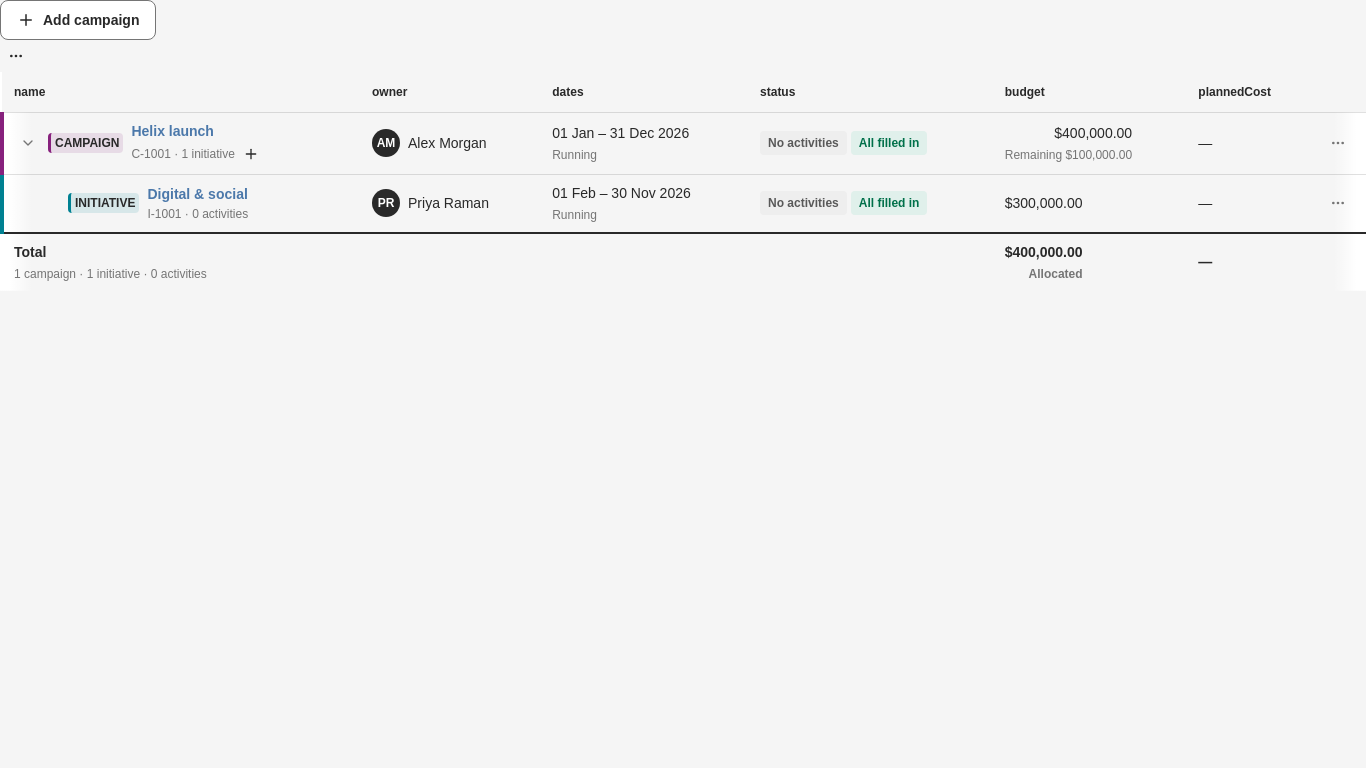
useCampaignTreeContent (feature 005) › shows a new campaign and the new totals right after it is created (FR-012)
Click the link "Add campaign" at (78, 20), box [0,0,156,40]
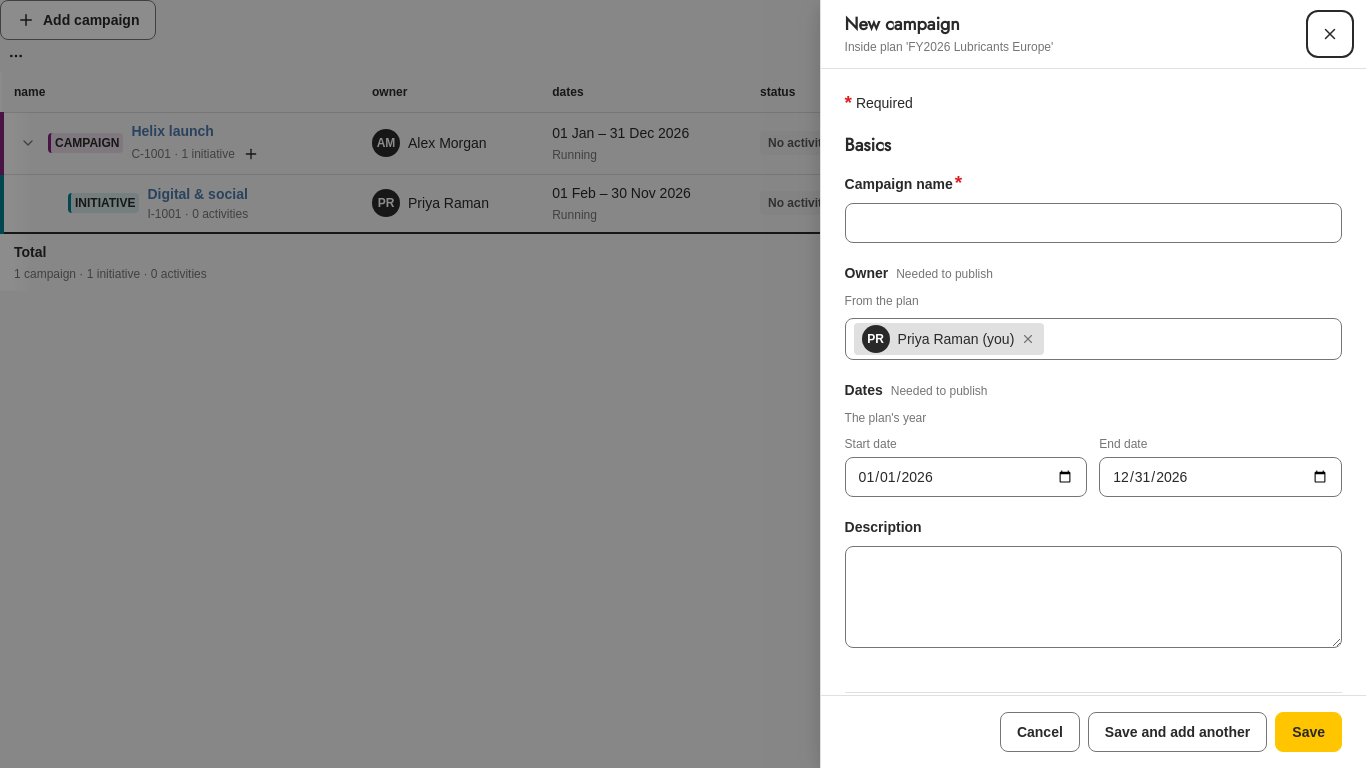
Type "Fleet growth" into the field labelled "Campaign name" at (1093, 223), box [845,203,1342,243]
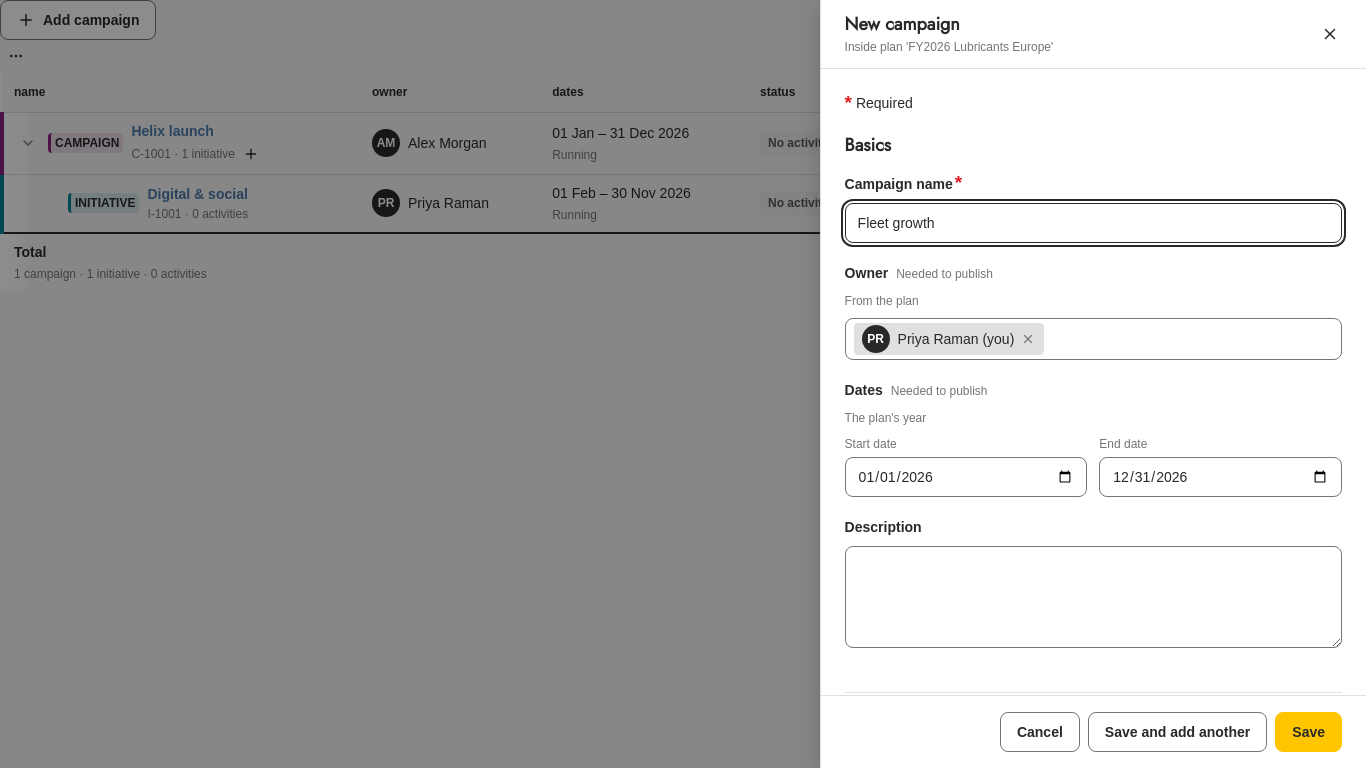
Click the button "Save" at (1309, 732), box [1275,712,1342,752]
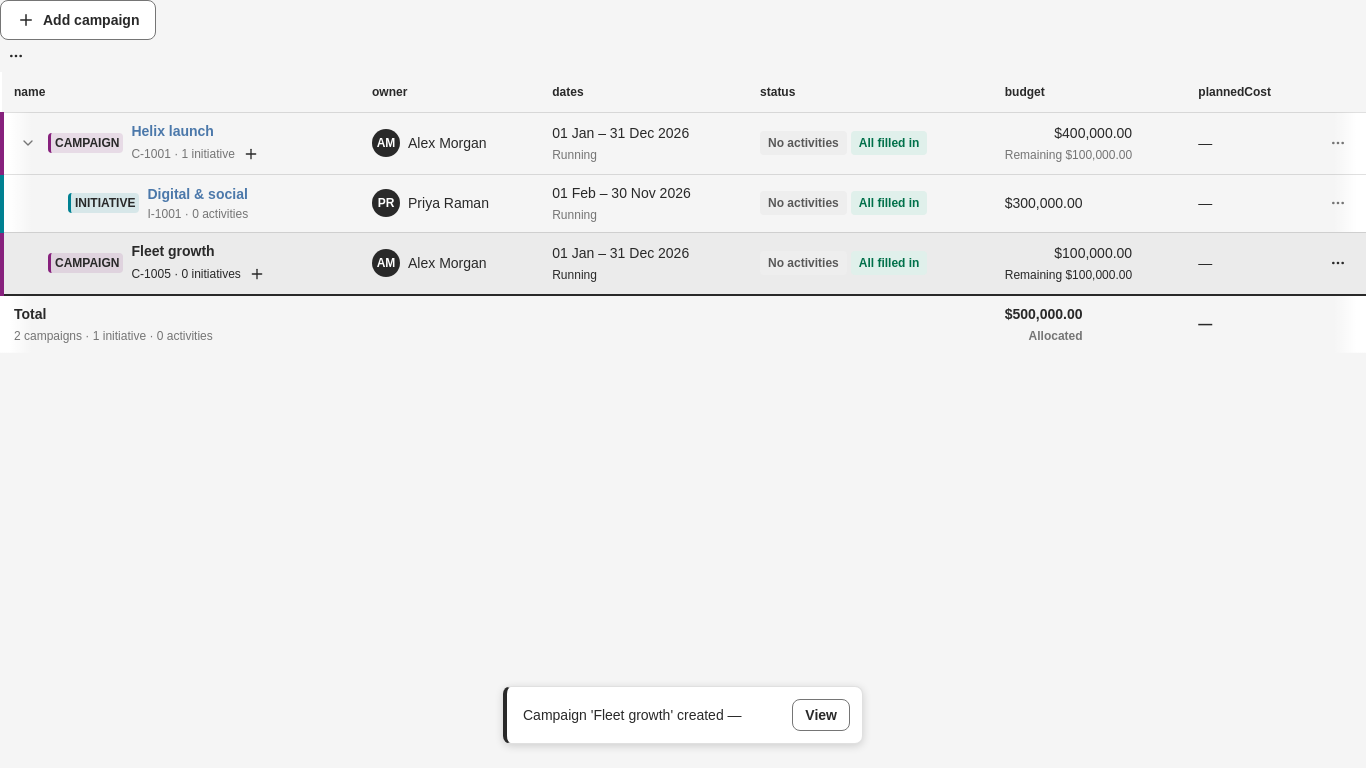
Check: the link "Fleet growth" is shown, box [132,242,215,258]
Check: the text "2 campaigns · 1 initiative · 0 activities" is shown, box [14,326,213,344]
Check: the text "$500,000.00" is shown, box [1005,304,1083,324]
